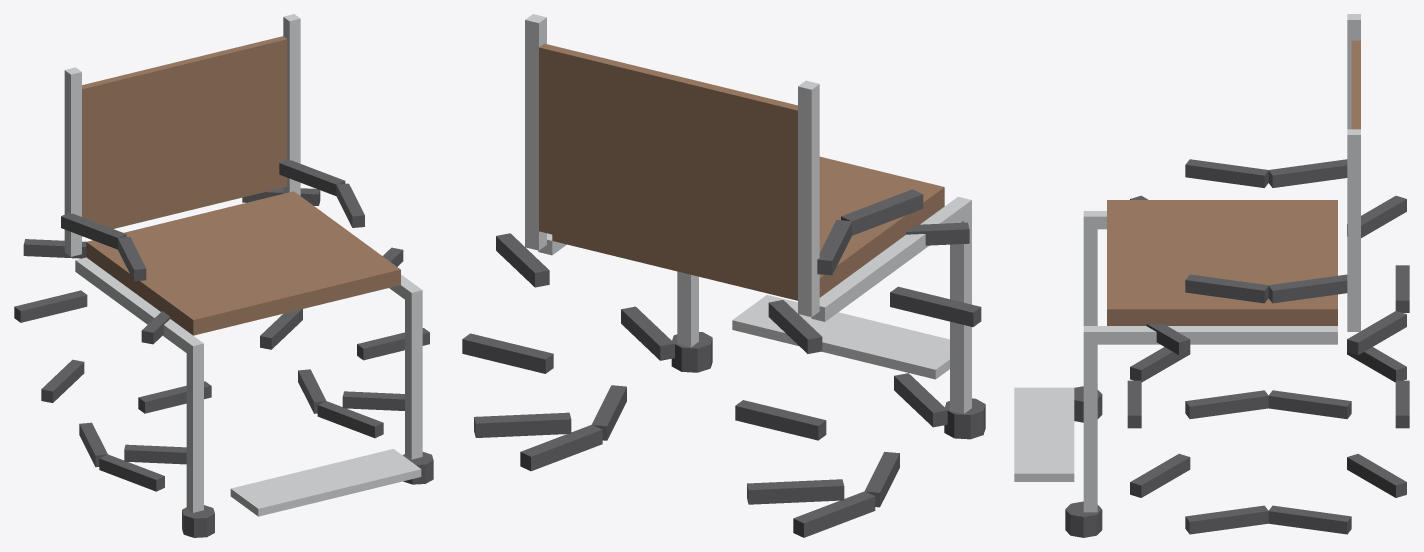
The model's file is Wheelchair.fbx.
3 views of the same model, side by side, from view 1: azimuth 30°, elevation 25°; view 2: azimuth 150°, elevation 25°; view 3: azimuth 270°, elevation 25° (orthographic). The views are drawn at different scales.
Parts seen in each view (by area): view 1: Wheelchair; view 2: Wheelchair; view 3: Wheelchair.
Part boxes in pixels (left/top/right/bottom): Wheelchair: left=14, top=14, right=433, bottom=537; Wheelchair: left=462, top=14, right=985, bottom=537; Wheelchair: left=1014, top=14, right=1409, bottom=537.
Bounding box in the file's own units: 0.77 × 0.95 × 0.855.
